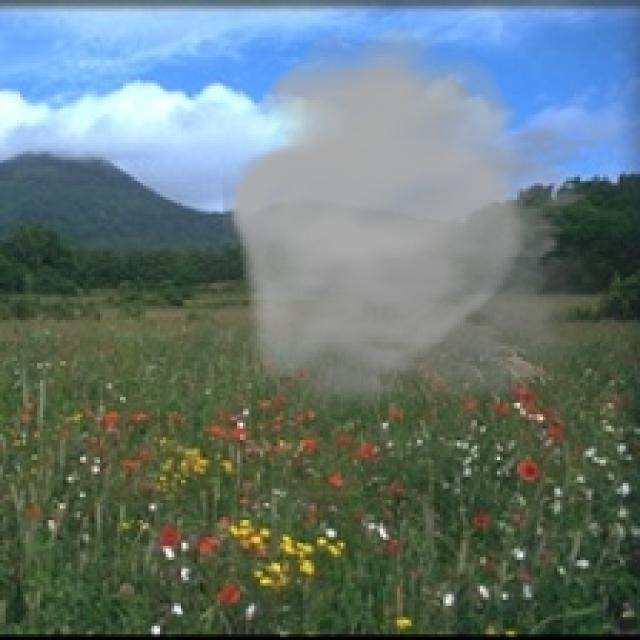Smoke: (223, 26, 632, 432)
